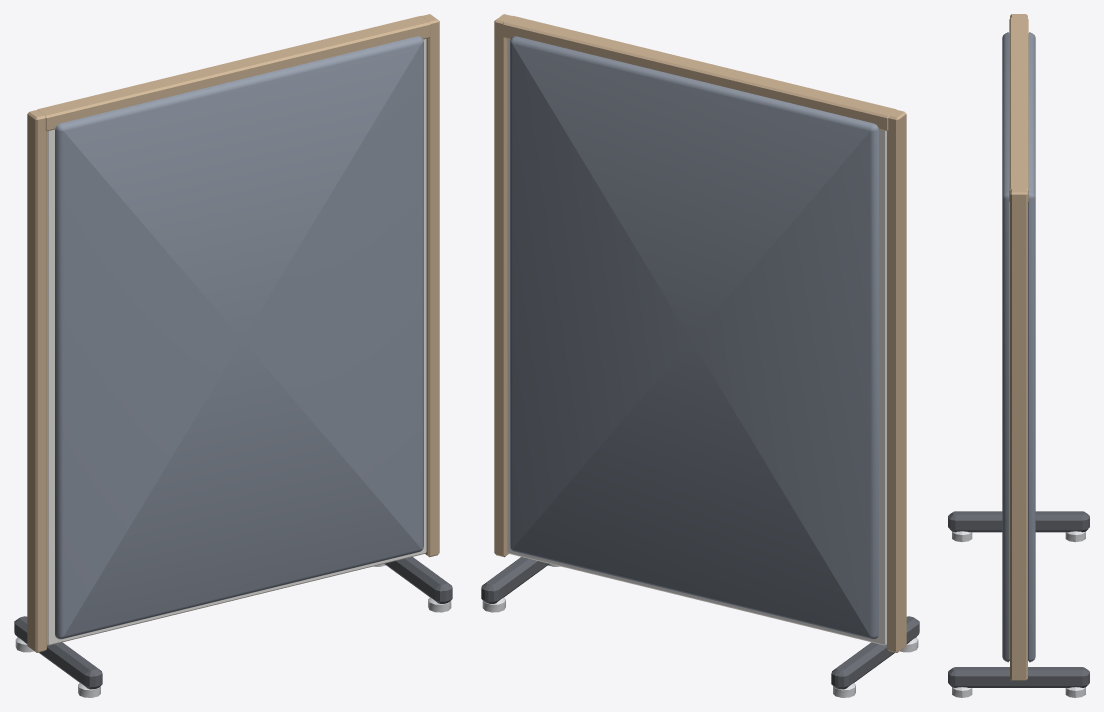
Rendered from downtown-office-interiors-acoustic-screen-floor-5029e8c4__17047.glb.
3 renders of one model, left to right at view 1: azimuth 30°, elevation 25°; view 2: azimuth 150°, elevation 25°; view 3: azimuth 270°, elevation 25°, orthographic. The views are drawn at different scales.
Visible parts, largest first — view 1: acoustic-screen-floor; view 2: acoustic-screen-floor; view 3: acoustic-screen-floor.
Boxes of the visible parts, x1=… form: acoustic-screen-floor: x1=14, y1=14, x2=452, y2=697; acoustic-screen-floor: x1=481, y1=14, x2=919, y2=697; acoustic-screen-floor: x1=948, y1=14, x2=1089, y2=697.
Size of the model in its own units: 1.2 by 1.59 by 0.4.
